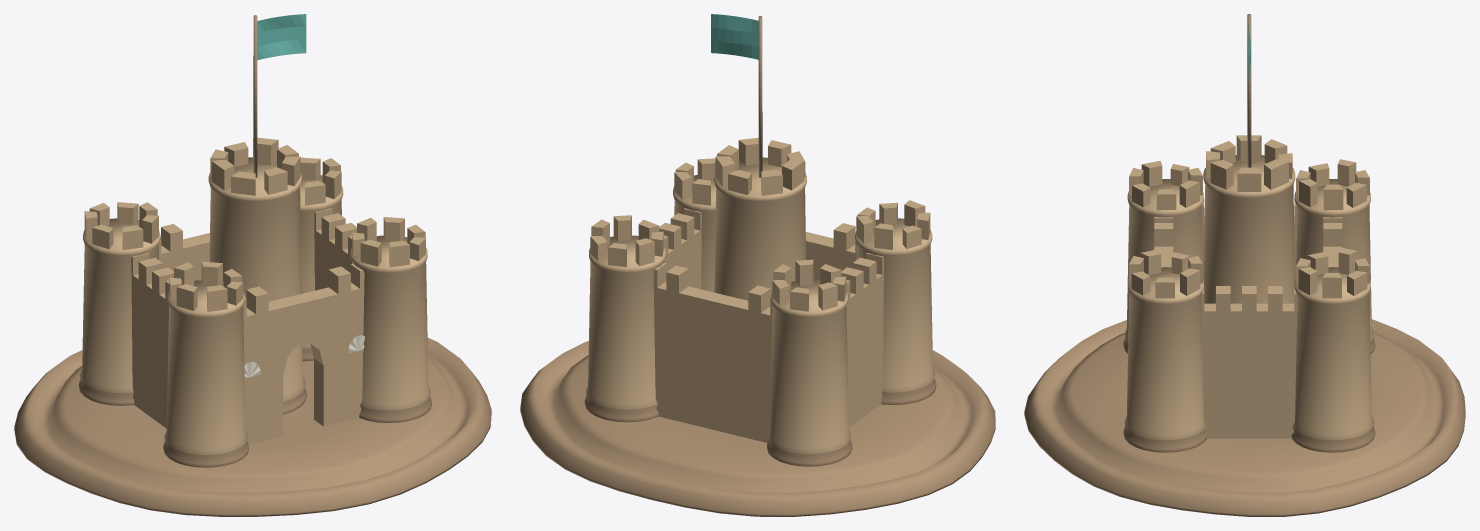
The model's file is sandcastle.glb.
3 views of the same model, side by side, from view 1: azimuth 30°, elevation 25°; view 2: azimuth 150°, elevation 25°; view 3: azimuth 270°, elevation 25° (orthographic).
Visible parts, largest first — view 1: Castle | moat and mound, Castle | gate arch, Castle | corner tower | tapered pail imprint, Castle | corner tower | tapered pail imprint.001, Castle | central keep | tapered pail imprint, Castle | corner tower | tapered pail imprint.002, Castle | side wall, Castle | corner tower | tapered pail imprint.003, Castle | cloth flag, Castle | side wall.001, Castle | rear wall, Castle | flag stick (+6 smaller); view 2: Castle | moat and mound, Castle | rear wall, Castle | corner tower | tapered pail imprint.002, Castle | corner tower | tapered pail imprint.003, Castle | central keep | tapered pail imprint, Castle | corner tower | tapered pail imprint, Castle | side wall, Castle | cloth flag, Castle | corner tower | tapered pail imprint.001, Castle | gate arch, Castle | side wall.001, Castle | flag stick (+3 smaller); view 3: Castle | moat and mound, Castle | corner tower | tapered pail imprint.001, Castle | side wall.001, Castle | corner tower | tapered pail imprint.003, Castle | central keep | tapered pail imprint, Castle | corner tower | tapered pail imprint, Castle | corner tower | tapered pail imprint.002, Castle | flag stick, Castle | central keep | uneven merlon.001, Castle | central keep | uneven merlon.007, Castle | central keep | uneven merlon, Castle | central keep | uneven merlon.004 (+2 smaller).
Part boxes in pixels (x1,y1,x2,y2): Castle | moat and mound: (14,338,491,516); Castle | gate arch: (243,282,364,444); Castle | corner tower | tapered pail imprint: (163,280,248,467); Castle | corner tower | tapered pail imprint.001: (350,235,431,422); Castle | central keep | tapered pail imprint: (208,157,306,414); Castle | corner tower | tapered pail imprint.002: (79,218,160,405); Castle | side wall: (131,274,168,428); Castle | corner tower | tapered pail imprint.003: (300,175,343,361); Castle | cloth flag: (257,14,306,60); Castle | side wall.001: (314,229,351,290); Castle | rear wall: (159,233,209,280); Castle | flag stick: (253,15,257,177); Castle | moat and mound: (520,341,995,516); Castle | rear wall: (653,281,772,442); Castle | corner tower | tapered pail imprint.002: (767,280,852,466); Castle | corner tower | tapered pail imprint.003: (584,235,665,422); Castle | central keep | tapered pail imprint: (714,157,806,300); Castle | corner tower | tapered pail imprint: (855,218,936,404); Castle | side wall: (846,274,883,427); Castle | cloth flag: (711,14,758,59); Castle | corner tower | tapered pail imprint.001: (673,175,715,292); Castle | gate arch: (805,232,856,280); Castle | side wall.001: (664,229,701,289); Castle | flag stick: (758,16,762,177); Castle | moat and mound: (1024,319,1465,516); Castle | corner tower | tapered pail imprint.001: (1123,267,1206,452); Castle | side wall.001: (1201,303,1297,438); Castle | corner tower | tapered pail imprint.003: (1291,267,1375,452); Castle | central keep | tapered pail imprint: (1203,155,1295,303); Castle | corner tower | tapered pail imprint: (1123,179,1203,353); Castle | corner tower | tapered pail imprint.002: (1294,179,1375,353); Castle | flag stick: (1247,14,1251,167); Castle | central keep | uneven merlon.001: (1264,159,1288,189); Castle | central keep | uneven merlon.007: (1210,160,1233,189); Castle | central keep | uneven merlon: (1237,167,1261,191); Castle | central keep | uneven merlon.004: (1236,135,1261,161).
Bounding box in the file's own units: 0.36 × 0.33 × 0.33.
